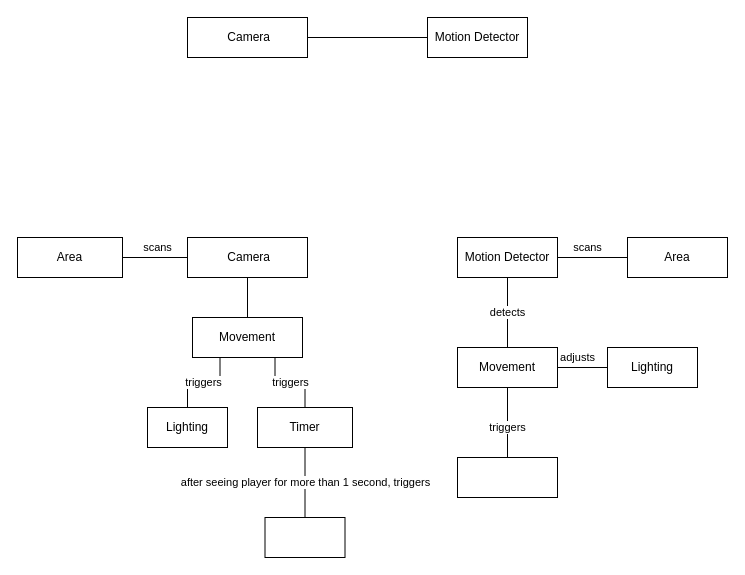
Some shapes in this 745 by 575 pixel diagram are drawn without their labels. Here are the shapes that lost their labels. From the top down, the centre of each, then its label:
point 507,477: Robot Pursuit
point 304,537: alarms
